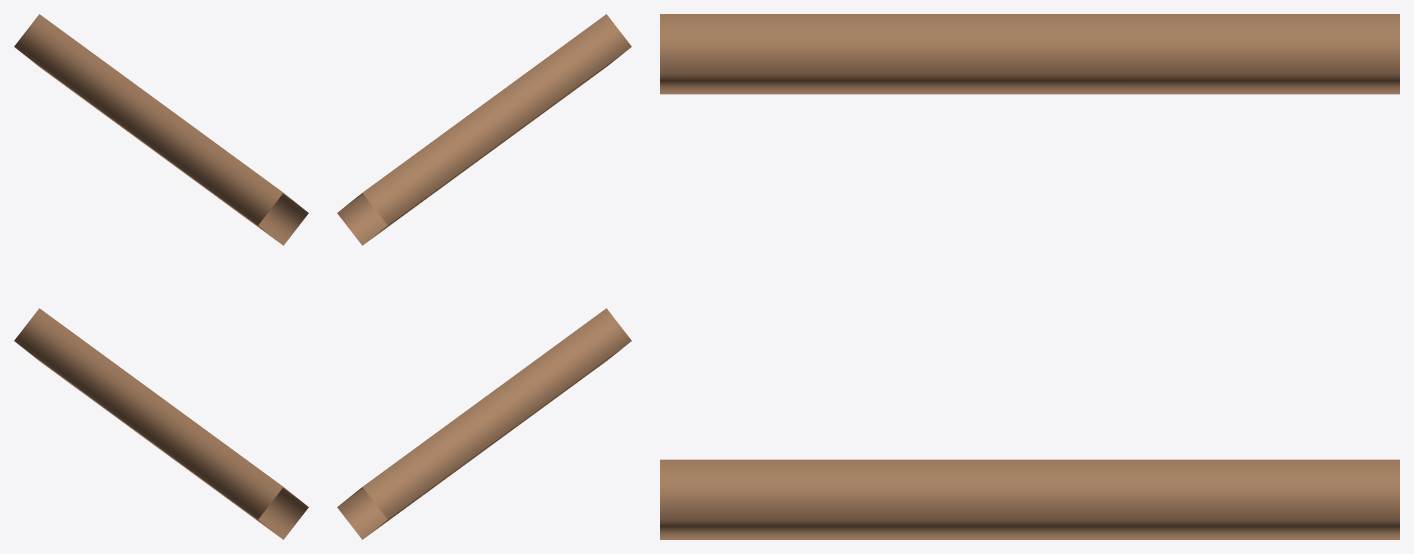
File: CA_085_086_railing_straight_rope.glb
3 views of the same model, side by side, from view 1: azimuth 30°, elevation 25°; view 2: azimuth 150°, elevation 25°; view 3: azimuth 270°, elevation 25° (orthographic). The views are drawn at different scales.
Parts seen in each view (by area): view 1: Ropes.003; view 2: Ropes.003; view 3: Ropes.003.
Boxes of the visible parts, left/top/right/bottom form: Ropes.003: left=14, top=14, right=308, bottom=539; Ropes.003: left=337, top=14, right=631, bottom=539; Ropes.003: left=660, top=14, right=1399, bottom=539.
Size of the model in its own units: 0.09 by 0.5885 by 0.75.
